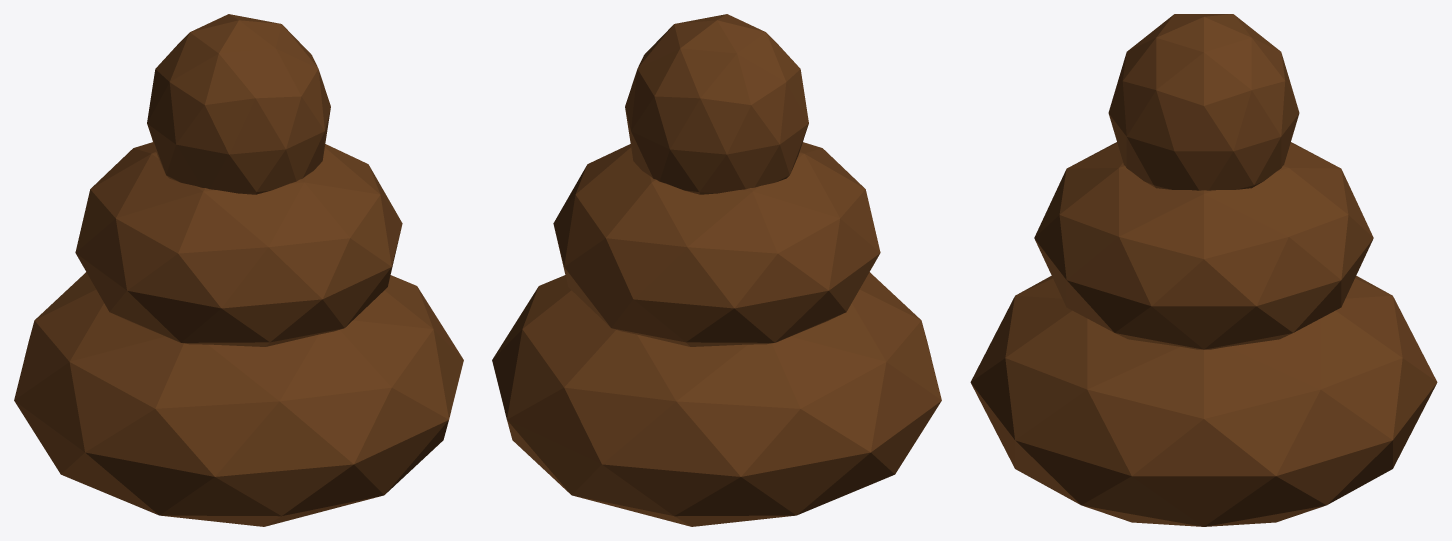
Rendered from poop.glb.
3 renders of one model, left to right at view 1: azimuth 30°, elevation 25°; view 2: azimuth 150°, elevation 25°; view 3: azimuth 270°, elevation 25°, orthographic.
Visible parts, largest first — view 1: poop; view 2: poop; view 3: poop.
Part boxes in pixels (<box>): poop: <box>14,14,463,526</box>; poop: <box>492,14,941,526</box>; poop: <box>970,14,1437,526</box>.
Size of the model in its own units: 0.2092 by 0.25 by 0.22.
